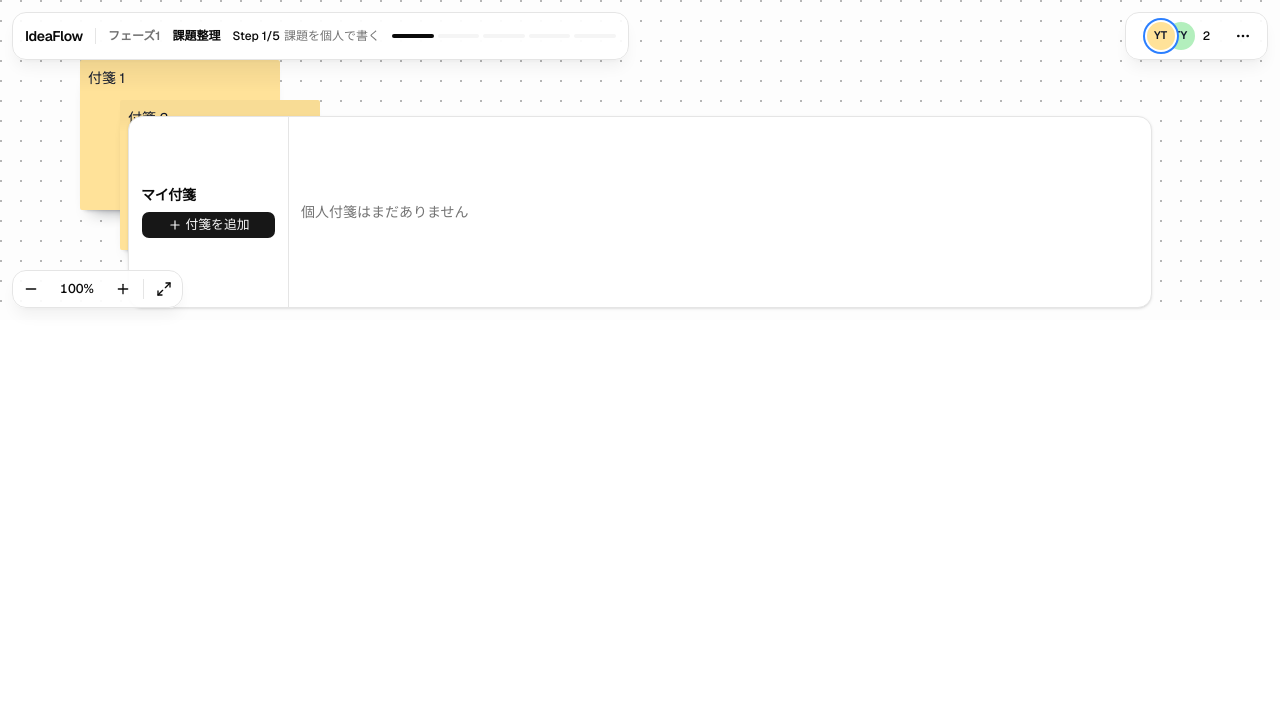
Scenario: 参加者 HUD › メンバー名は参加者ポップオーバーに表示する
expect the text "Yuki Tanaka" is not shown: met
Click the button "YT TY 2" at (1174, 36), box [1130, 16, 1219, 56]
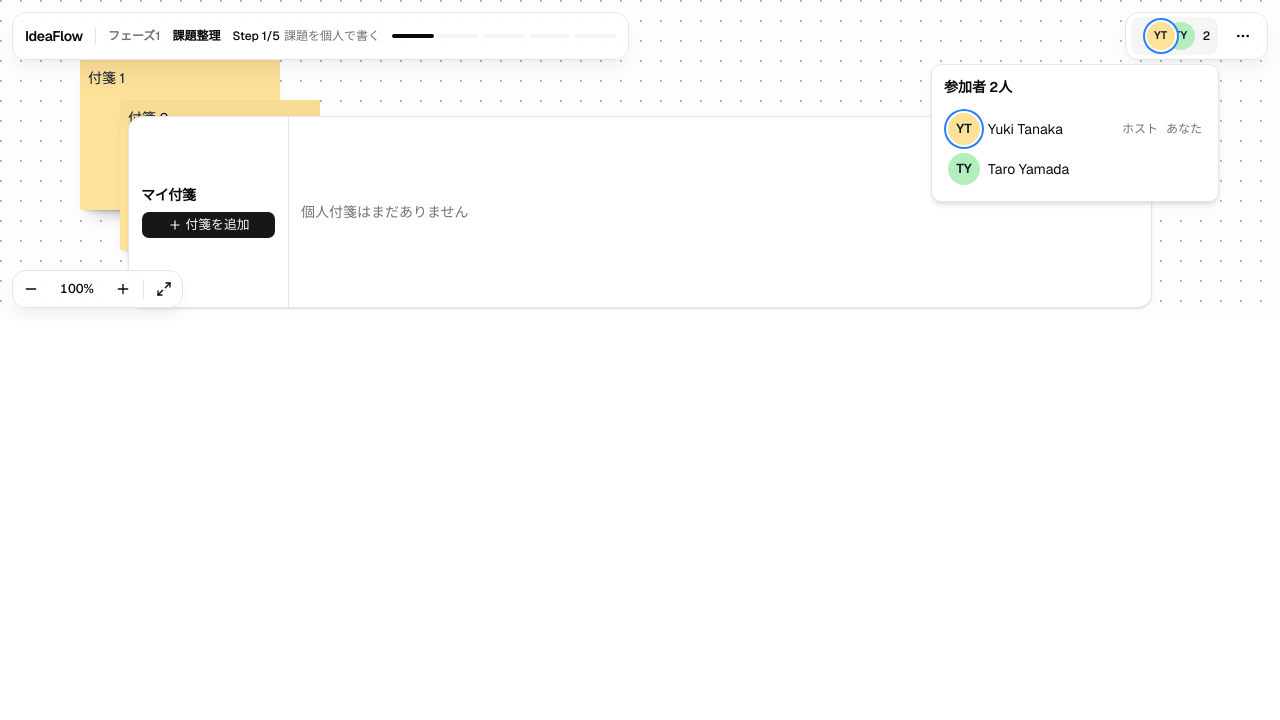
expect the text "Yuki Tanaka" is shown: met, box [988, 120, 1063, 138]
expect the text "Taro Yamada" is shown: met, box [988, 160, 1069, 178]
